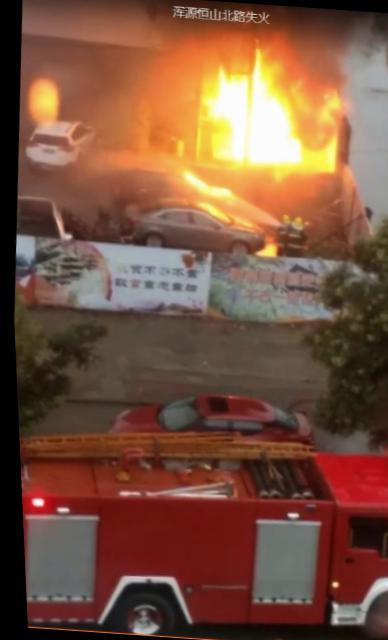fire: (244, 55, 299, 166), (192, 59, 248, 163), (290, 88, 339, 172)
